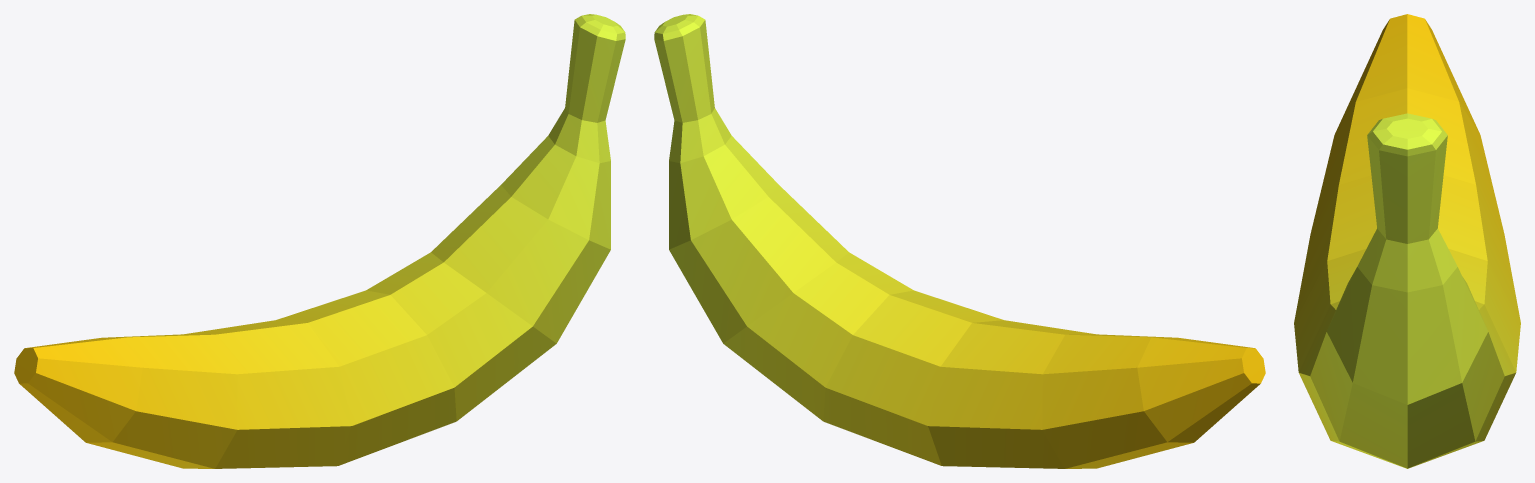
File: Banana.fbx
3 views of the same model, side by side, from view 1: azimuth 30°, elevation 25°; view 2: azimuth 150°, elevation 25°; view 3: azimuth 270°, elevation 25° (orthographic). The views are drawn at different scales.
Parts seen in each view (by area): view 1: Banana; view 2: Banana; view 3: Banana.
Part boxes in pixels (x1,y1,x2,y2): Banana: (14,14,625,468); Banana: (654,14,1265,468); Banana: (1294,14,1520,468).
Bounding box in the file's own units: 21 × 12.44 × 5.44.
